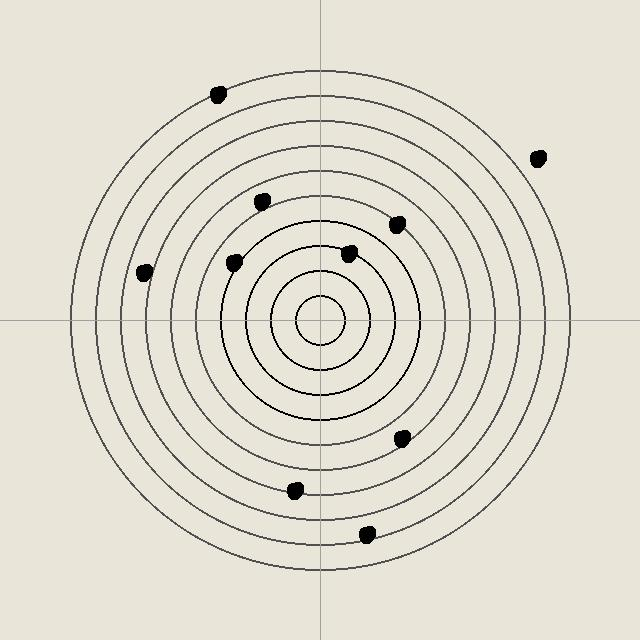random_scatter: (338, 243, 358, 263), (207, 84, 227, 104), (284, 480, 304, 500), (391, 428, 411, 448), (133, 262, 153, 282), (251, 191, 271, 211), (527, 148, 547, 168), (356, 524, 376, 544), (386, 214, 406, 234), (223, 252, 243, 272)
